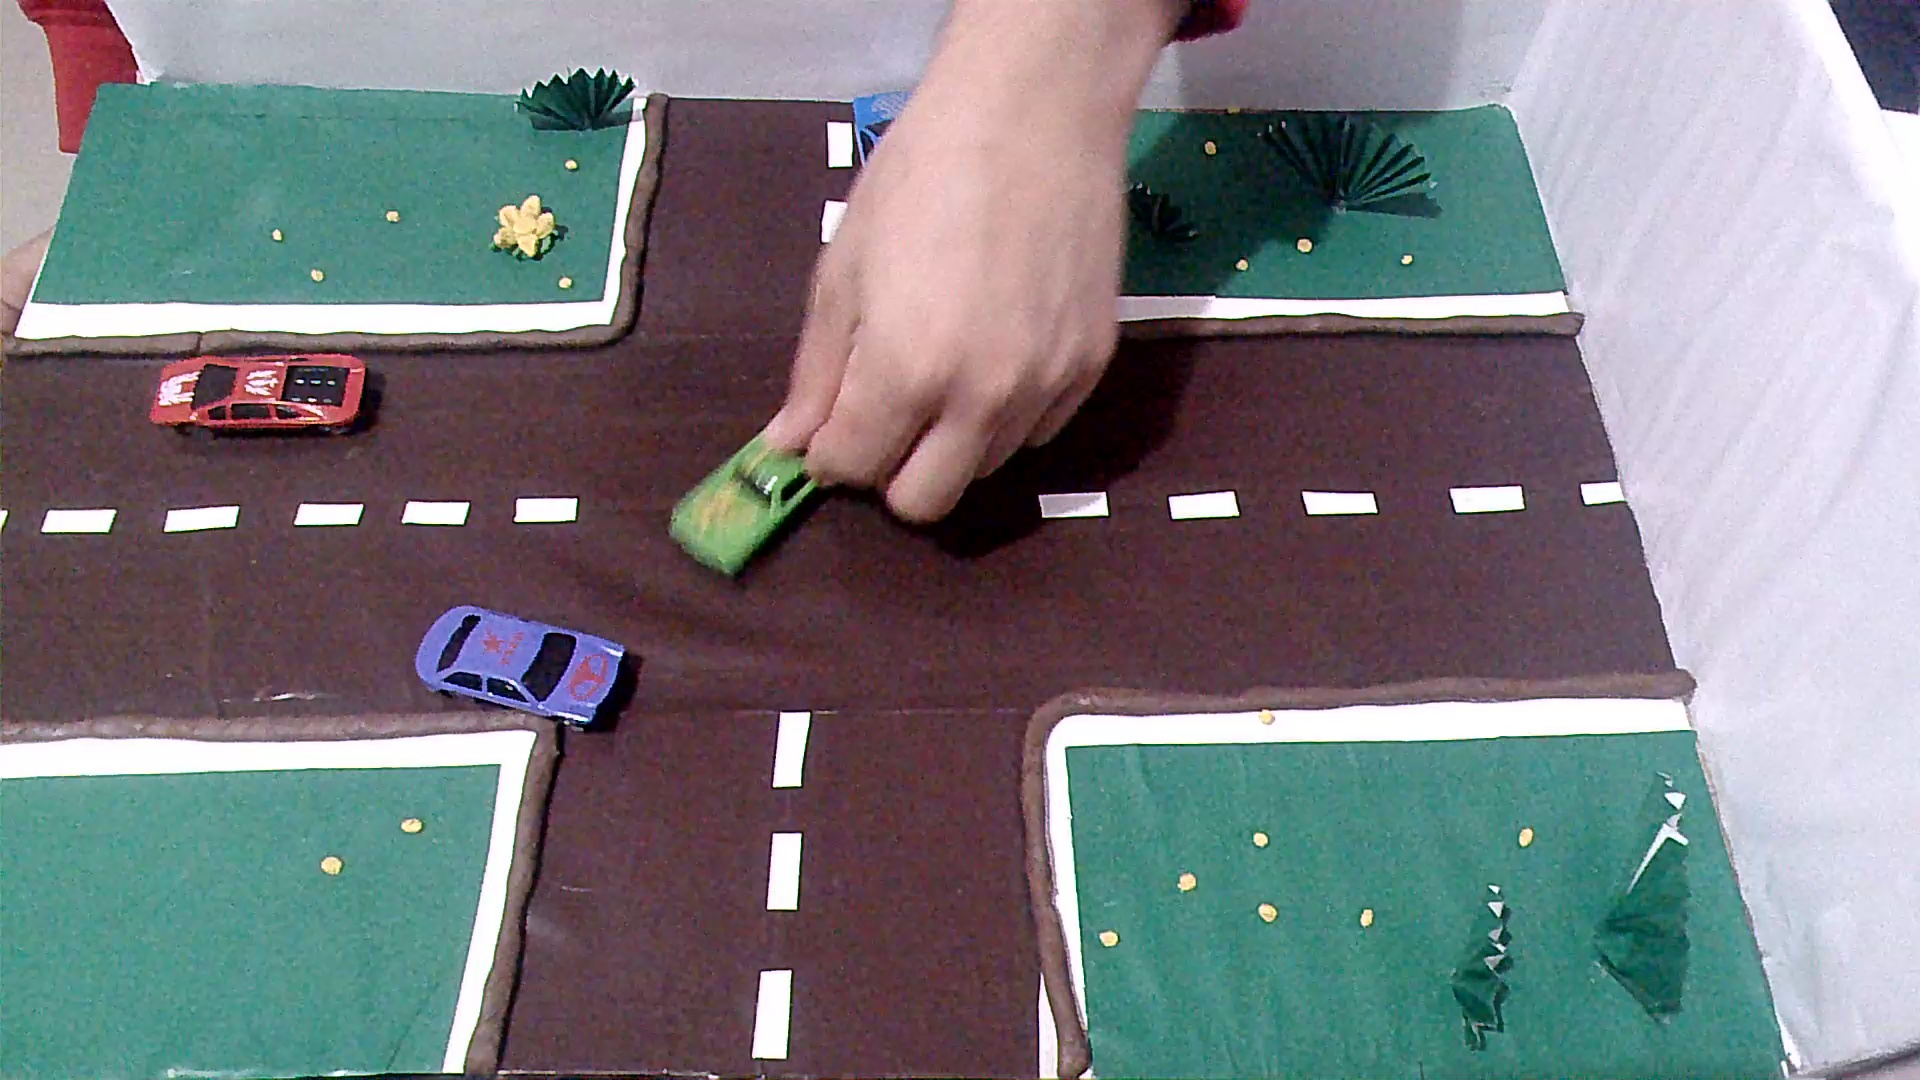car: (669, 415, 843, 582), (419, 605, 629, 732), (851, 95, 973, 286), (156, 349, 364, 442)
